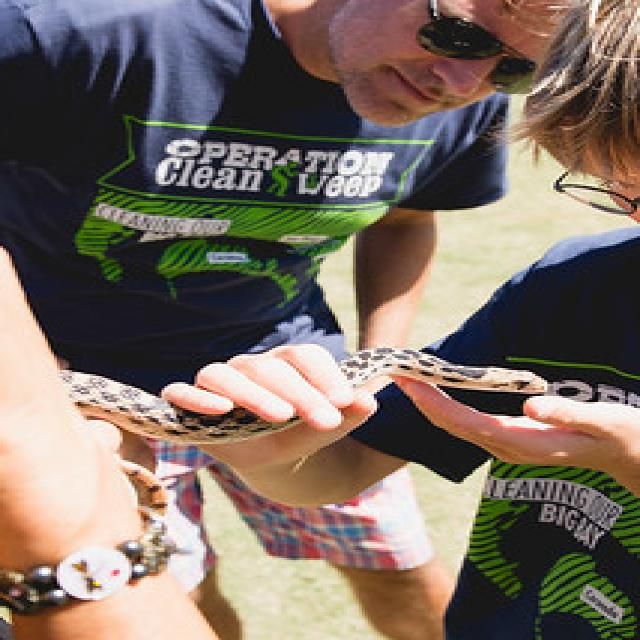Snake: (51, 350, 551, 446)
